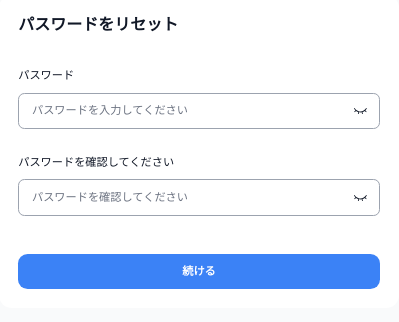
Test: ResetPasswordForm › 不正なパスワードで送信するとエラーメッセージが表示され、resetPasswordActionは呼ばれない
Type "short" into the password field labelled "パスワード". click: (199, 111)
box: x1=18 y1=93 x2=380 y2=129
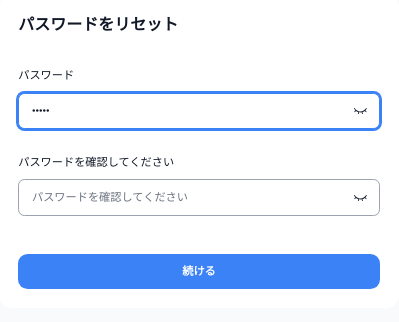
Type "short" into the password field labelled "パスワードを確認してください". click: (199, 197)
box: x1=18 y1=179 x2=380 y2=216
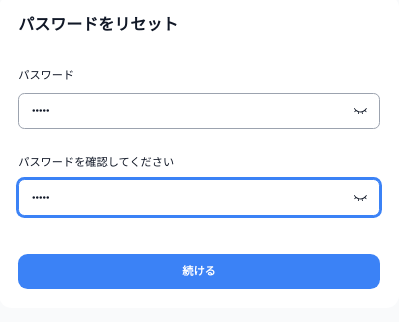
Click the button "続ける". click: (199, 272)
box: x1=18 y1=254 x2=380 y2=289
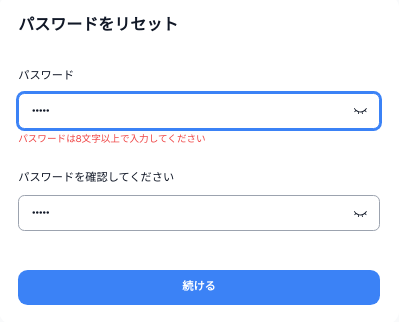
Check: the text "パスワードは8文字以上で入力してください" is shown, box x1=18 y1=132 x2=206 y2=145
